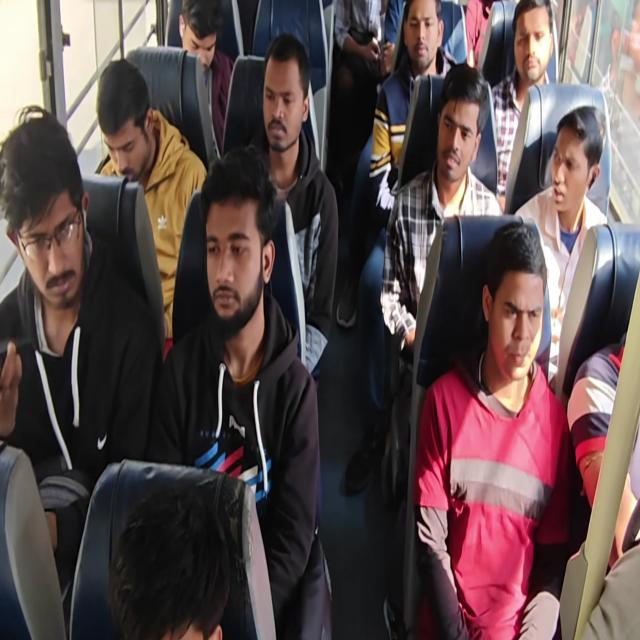person: (1, 1, 638, 638), (148, 144, 332, 638), (0, 104, 161, 612), (413, 220, 573, 638), (336, 0, 457, 328), (380, 62, 503, 361), (246, 32, 340, 386), (95, 58, 208, 346), (513, 105, 610, 393), (108, 487, 231, 639), (369, 0, 457, 211), (566, 333, 639, 571), (329, 0, 402, 194), (488, 0, 555, 209), (177, 0, 234, 159), (598, 0, 640, 131)
